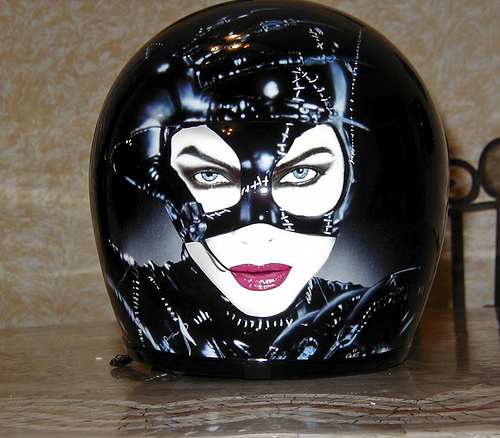helmet: (105, 32, 450, 361)
